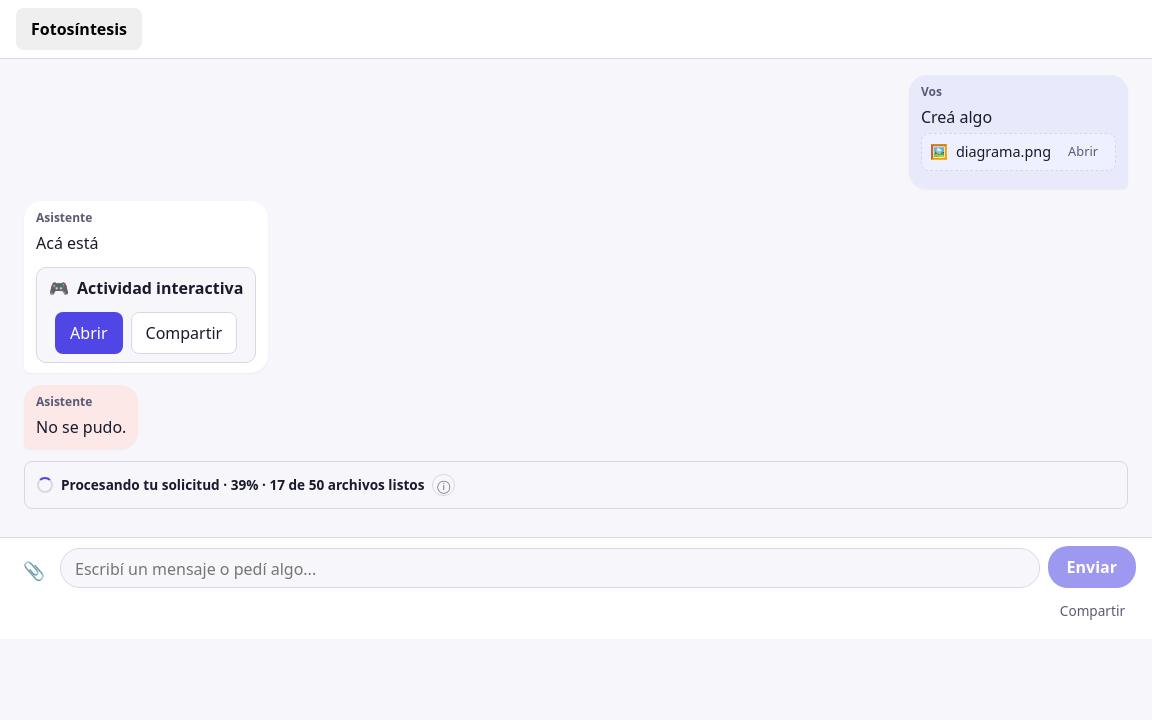
Test: WorkspaceView › shows incremental embedding progress in the compact line and the details popover
This screenshot has width=1152, height=720.
Check: the text "Procesando tu solicitud · 39% · 17 de 50 archivos listos" is shown, box [61,475,424,495]
# The detailed counters move to the info popover.
Click the button named "Detalles del procesamiento".
click(444, 485)  # box [432,474,455,496]
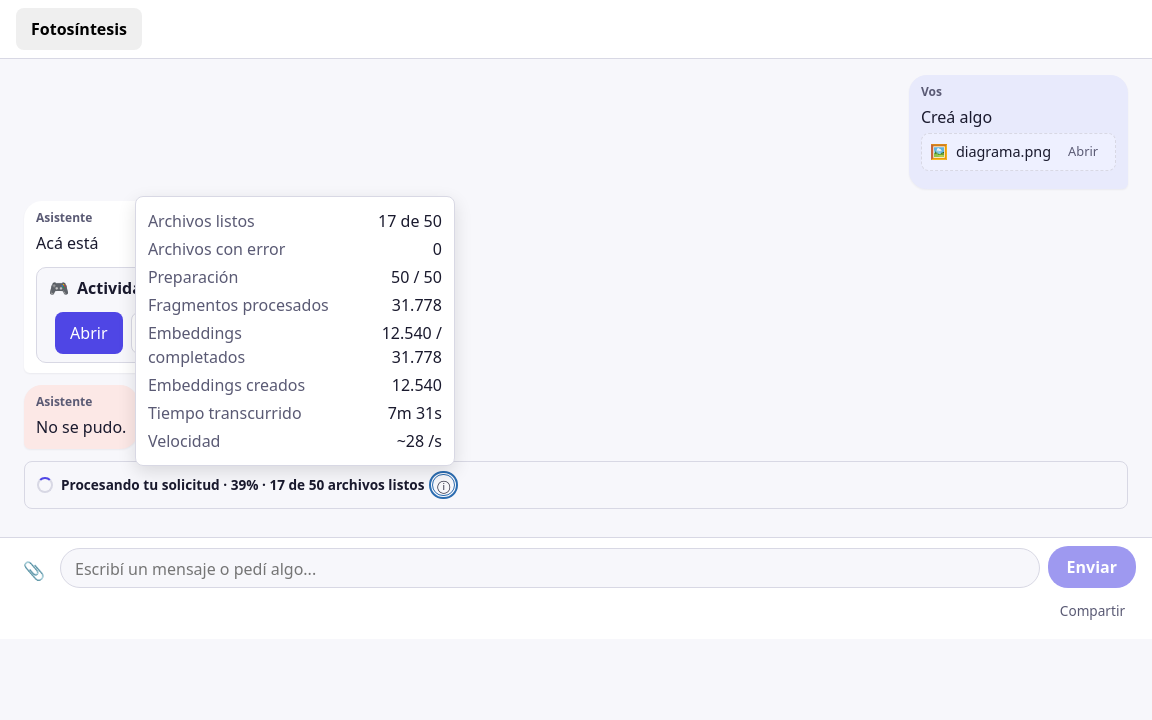
Check: the text "Embeddings completados" is shown, box [148,322,245,368]
Check: the text "12.540 / 31.778" is shown, box [382,322,442,368]
Check: the text "Embeddings creados" is shown, box [148,374,305,396]
